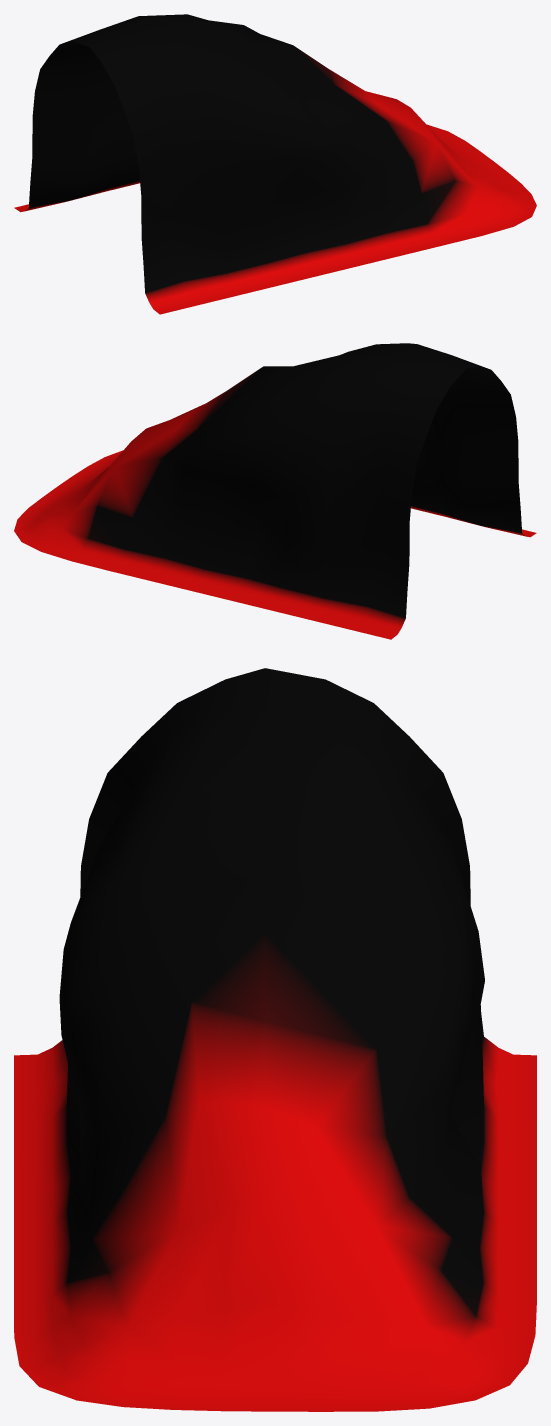
Rendered from GroundObject05D.fbx.
3 views of the same model, one above another, from view 1: azimuth 30°, elevation 25°; view 2: azimuth 150°, elevation 25°; view 3: azimuth 270°, elevation 25° (orthographic). The views are drawn at different scales.
Visible parts, largest first — view 1: GroundObject05D; view 2: GroundObject05D; view 3: GroundObject05D.
Part boxes in pixels (<box>): GroundObject05D: <box>14,14,536,314</box>; GroundObject05D: <box>14,343,536,639</box>; GroundObject05D: <box>14,668,536,1411</box>.
Bounding box in the file's own units: 2.02 × 1.02 × 1.25.
